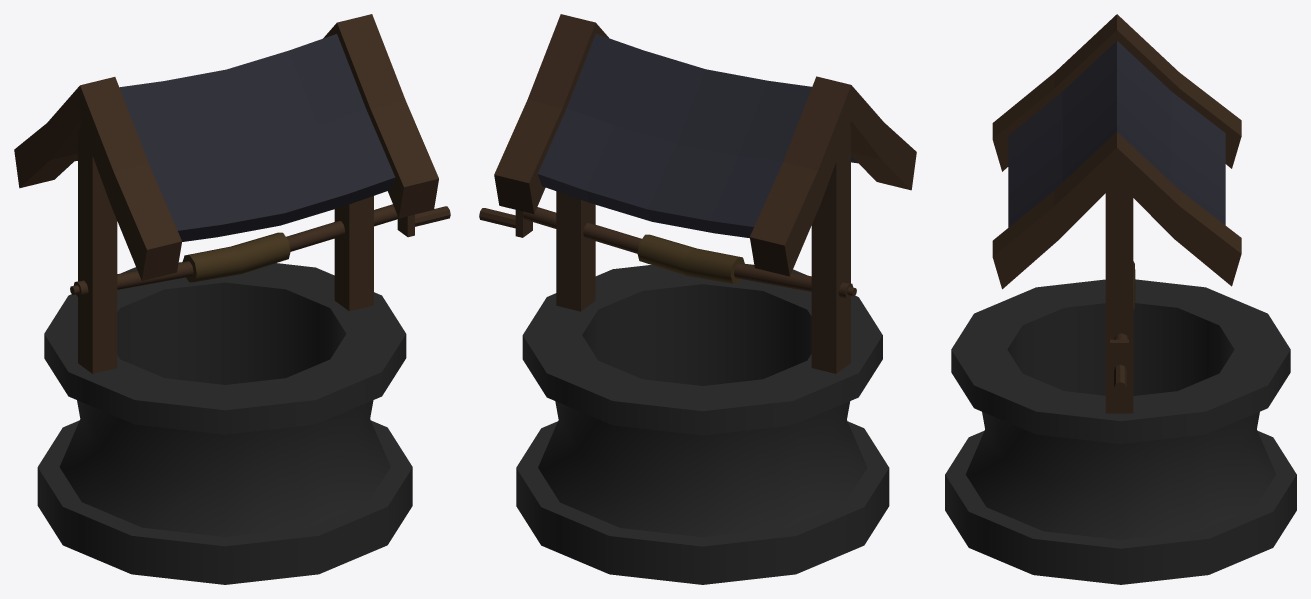
3 views of the same model, side by side, from view 1: azimuth 30°, elevation 25°; view 2: azimuth 150°, elevation 25°; view 3: azimuth 270°, elevation 25° (orthographic). The views are drawn at different scales.
Visible parts, largest first — view 1: SM_Well:SM_Well1; view 2: SM_Well:SM_Well1; view 3: SM_Well:SM_Well1.
Part boxes in pixels (<box>): SM_Well:SM_Well1: <box>14,14,450,584</box>; SM_Well:SM_Well1: <box>479,14,916,584</box>; SM_Well:SM_Well1: <box>945,14,1296,584</box>.
Bounding box in the file's own units: 2.76 × 3.14 × 2.33.
